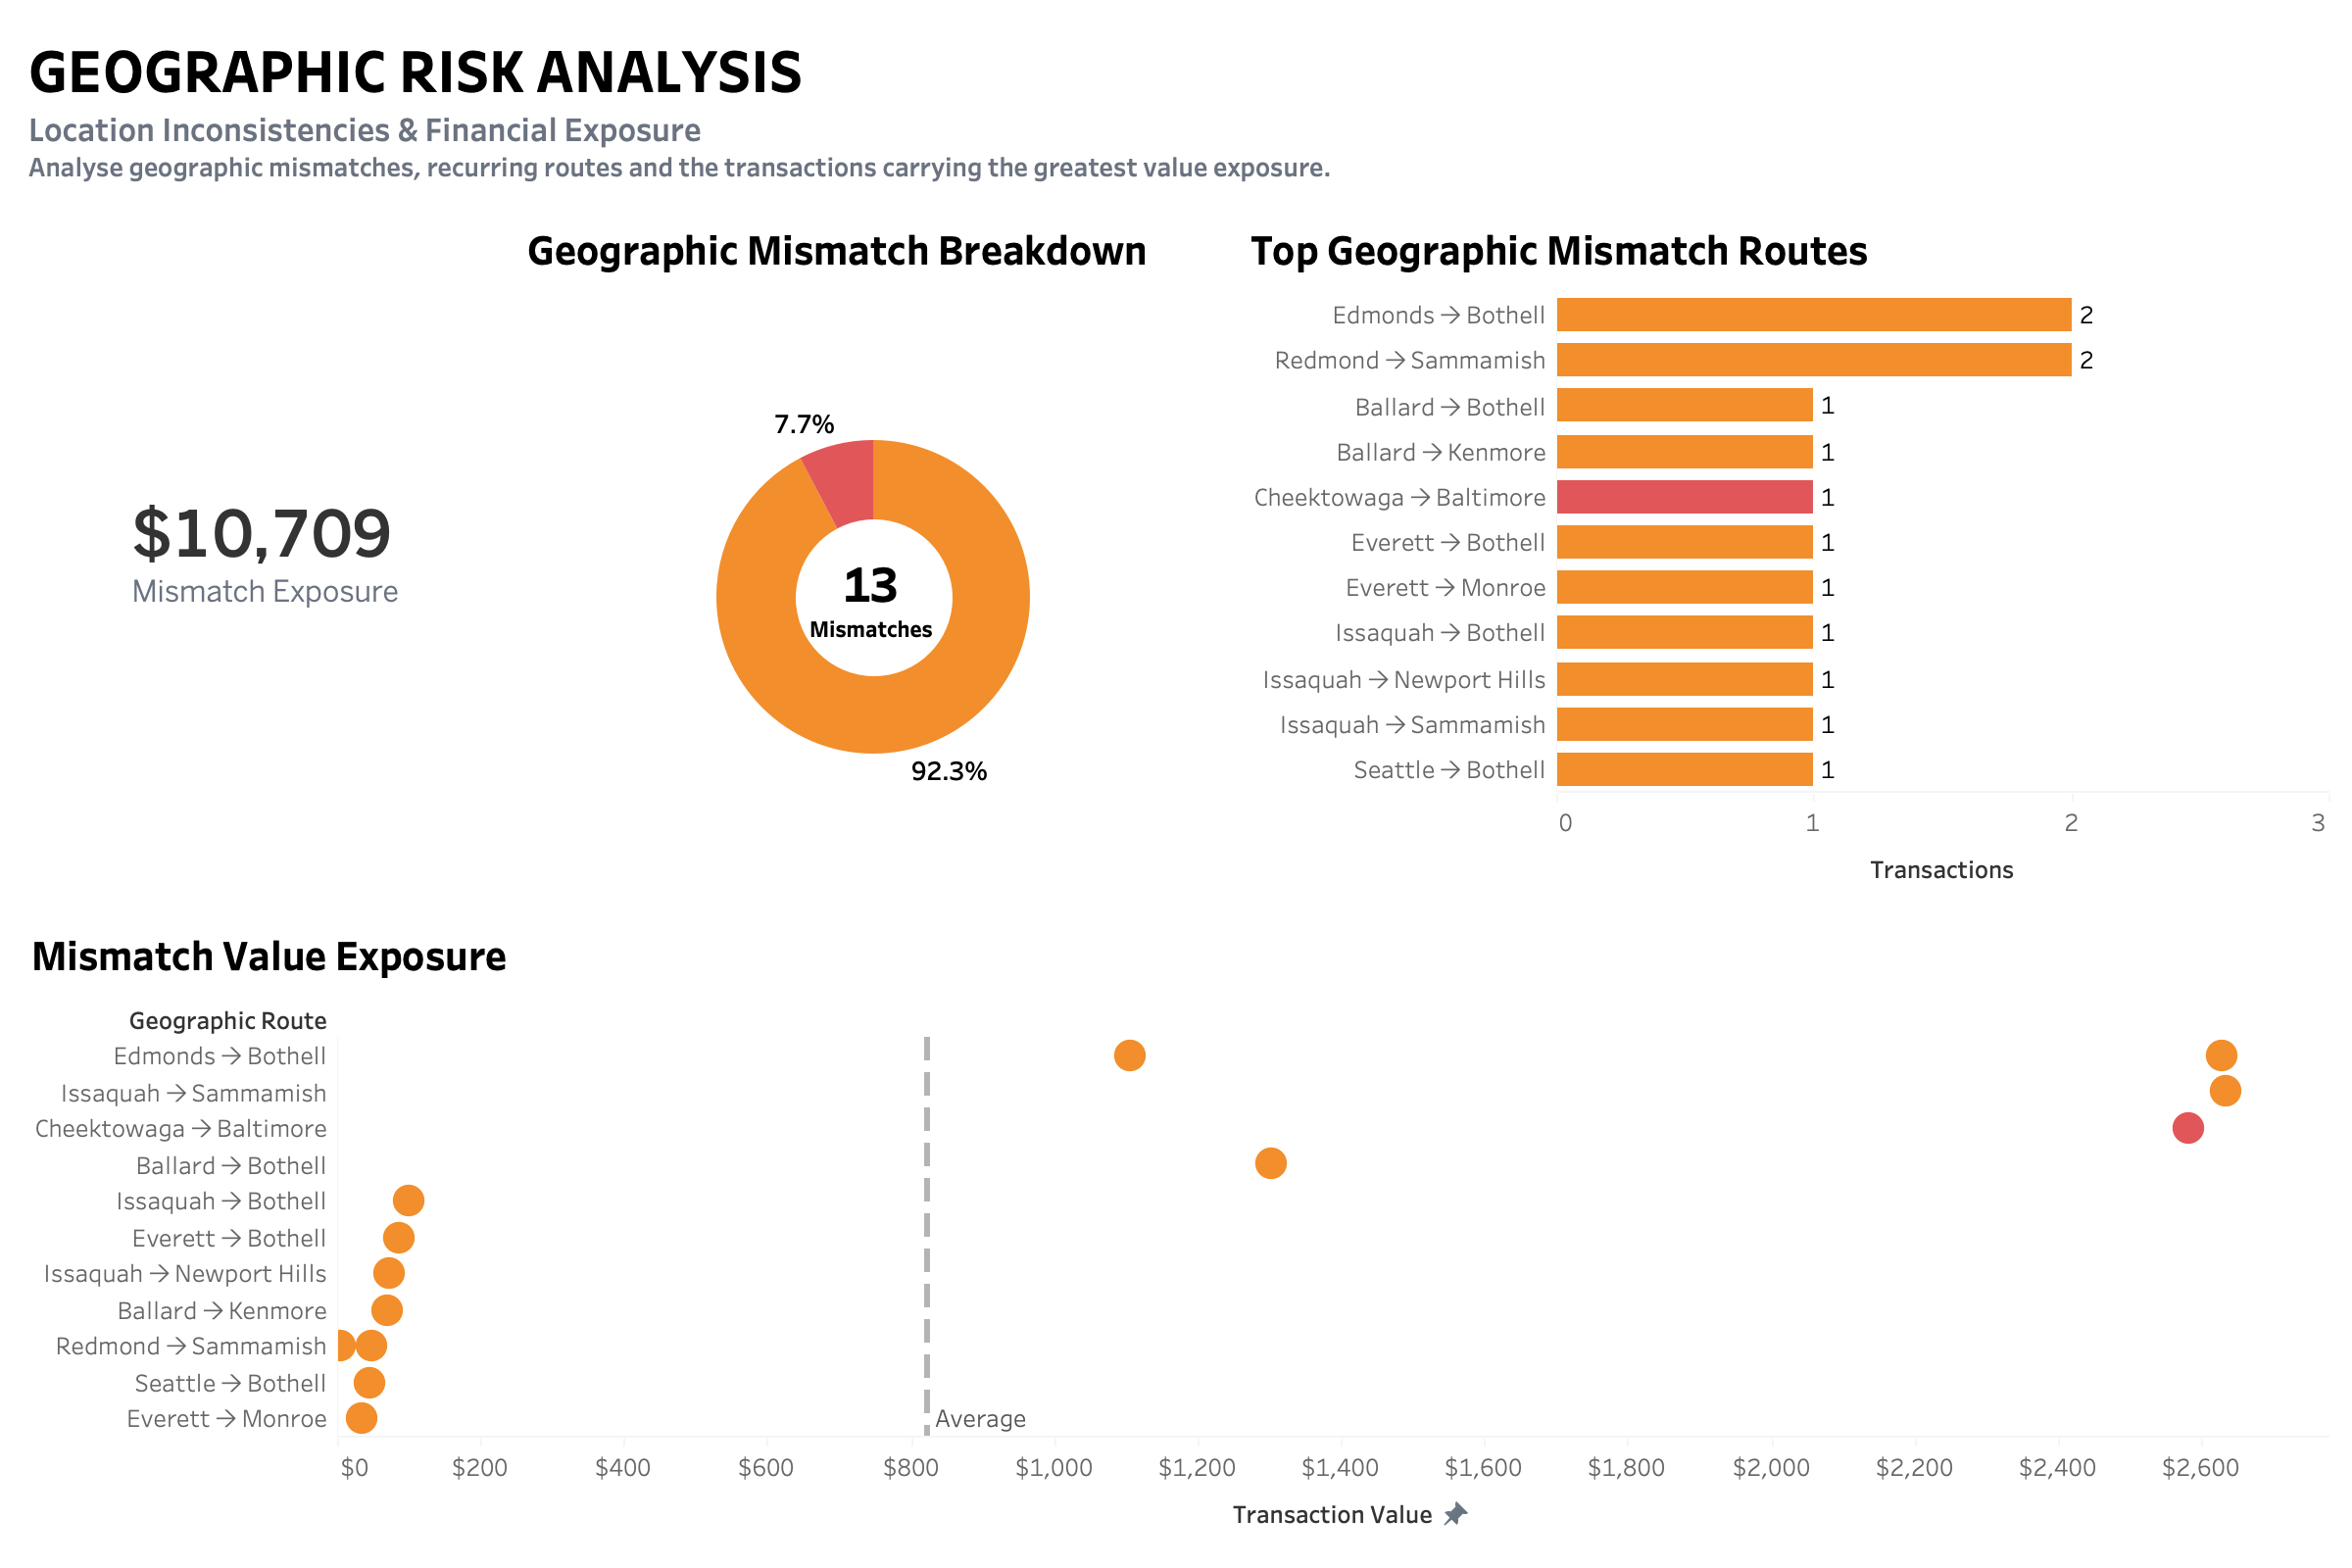

What the dashboard file says about the page in this screenshot:
{"tool":"tableau","page":{"name":"GEOGRAPHIC RISK ANALYSIS","canvas":[1200,800],"ordinal":2},"visuals":[{"type":"text","box":[8,8,1184,95]},{"type":"worksheet","title":"KPI - Geographic Mismatch Exposure","mark":"Automatic","box":[8,103,253,360]},{"type":"worksheet","title":"Chart - Geographic Mismatch Breakdown","mark":"Pie","cols":["Calculation_200058372417515524","Calculation_200058372417515524"],"box":[261,103,369,360]},{"type":"worksheet","title":"Chart - Top Geographic Mismatch Routes","mark":"Bar","rows":["Calculation_200058372402331651"],"cols":["SalesOrderID"],"box":[630,103,562,360]},{"type":"worksheet","title":"Chart - Geographic Value Exposure","mark":"Circle","rows":["Calculation_200058372402331651"],"cols":["order_value"],"box":[8,463,1184,329]}]}

Visuals, with their boxes in screenshot pixels (x1, y1, x2, y2), scaled from the page's 1200x800 canvas onto the 2352x1568 screenshot:
text: box=[16, 16, 2336, 202]
"KPI - Geographic Mismatch Exposure" worksheet: box=[16, 202, 512, 907]
"Chart - Geographic Mismatch Breakdown" worksheet (Pie marks): box=[512, 202, 1235, 907]
"Chart - Top Geographic Mismatch Routes" worksheet (Bar marks): box=[1235, 202, 2336, 907]
"Chart - Geographic Value Exposure" worksheet (Circle marks): box=[16, 907, 2336, 1552]
